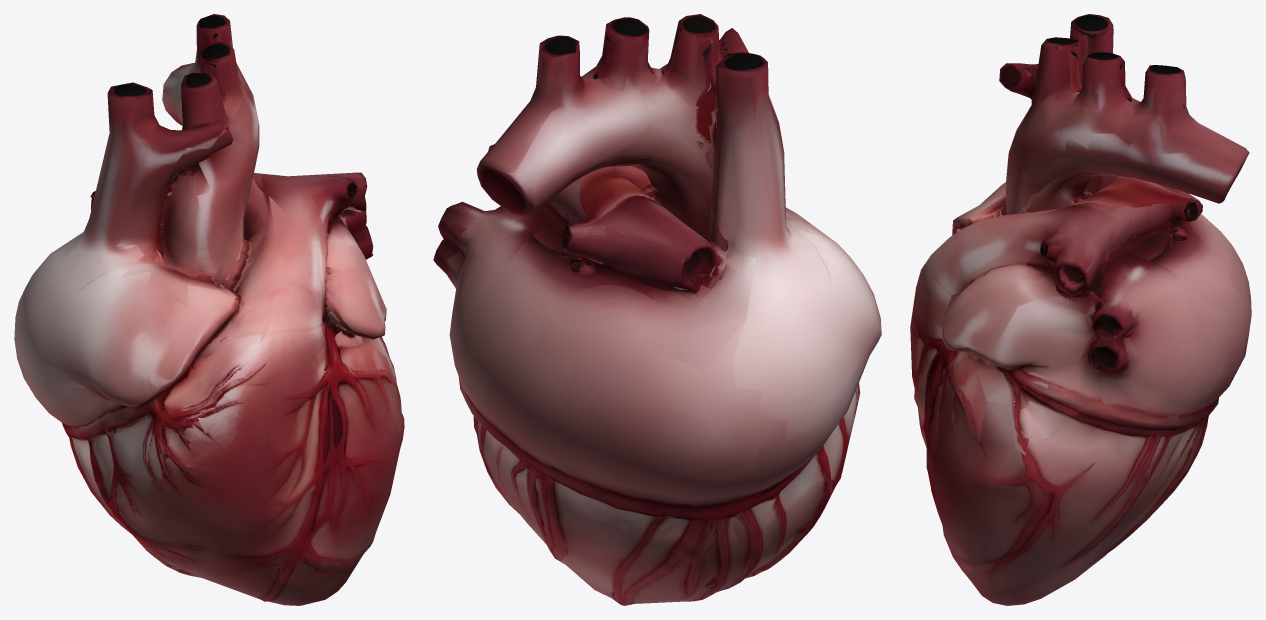
File: heart.fbx
The picture shows the model from 3 angles, left to right: view 1: azimuth 30°, elevation 25°; view 2: azimuth 150°, elevation 25°; view 3: azimuth 270°, elevation 25°; orthographic projection. The views are drawn at different scales.
Visible parts, largest first — view 1: lowpoly; view 2: lowpoly; view 3: lowpoly.
Boxes of the visible parts, x1=… form: lowpoly: x1=14, y1=14, x2=404, y2=605; lowpoly: x1=433, y1=14, x2=881, y2=605; lowpoly: x1=910, y1=14, x2=1251, y2=605.
Size of the model in its own units: 0.7565 by 1.12 by 0.6595.
1 material, 1 textured.
